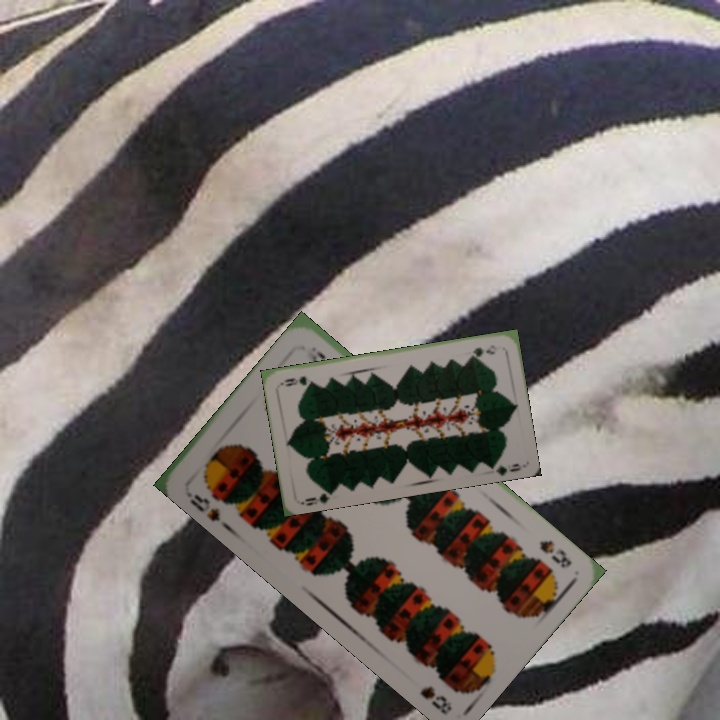G9: (297, 486, 336, 508), (466, 341, 499, 359)
S8: (180, 486, 223, 525), (535, 536, 575, 571)
